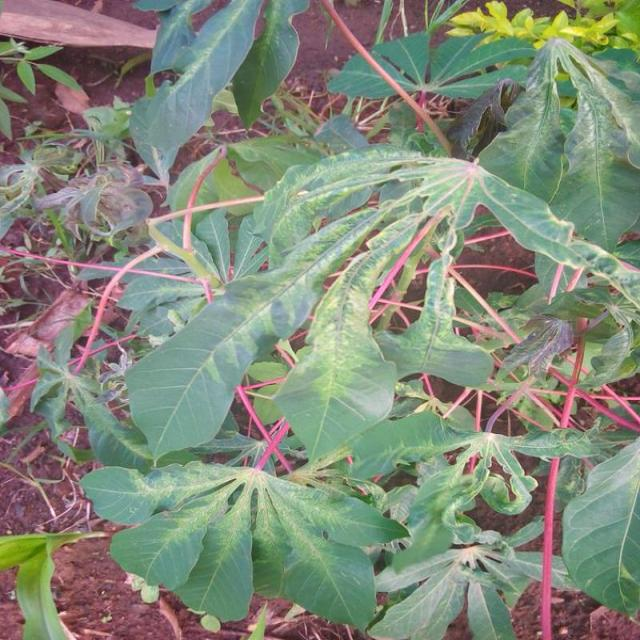cassava leaf: (77, 17, 639, 636)
